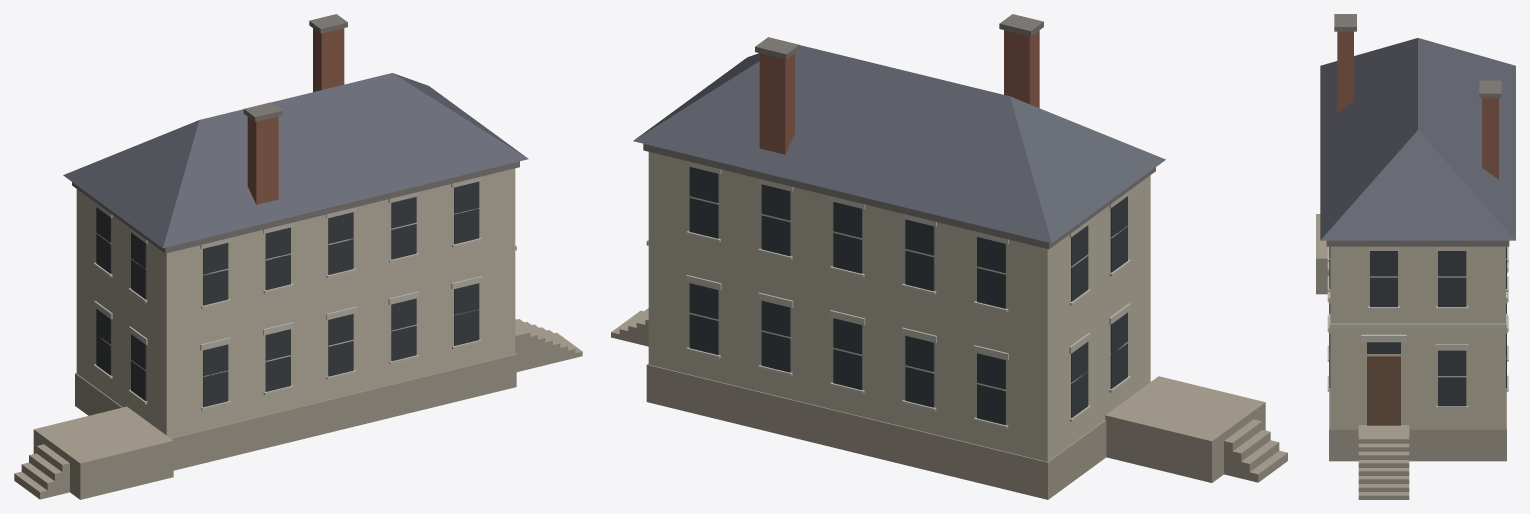
Rendered from house_2107_indiana__draft_1904.glb.
3 views of the same model, side by side, from view 1: azimuth 30°, elevation 25°; view 2: azimuth 150°, elevation 25°; view 3: azimuth 270°, elevation 25° (orthographic). The views are drawn at different scales.
Visible parts, largest first — view 1: house_2107_indiana__draft_1904; view 2: house_2107_indiana__draft_1904; view 3: house_2107_indiana__draft_1904.
Part boxes in pixels (x1,y1,x2,y2): house_2107_indiana__draft_1904: [14, 14, 582, 499]; house_2107_indiana__draft_1904: [611, 14, 1287, 499]; house_2107_indiana__draft_1904: [1316, 14, 1515, 499].
Size of the model in its own units: 22.25 by 12.69 by 7.1.
